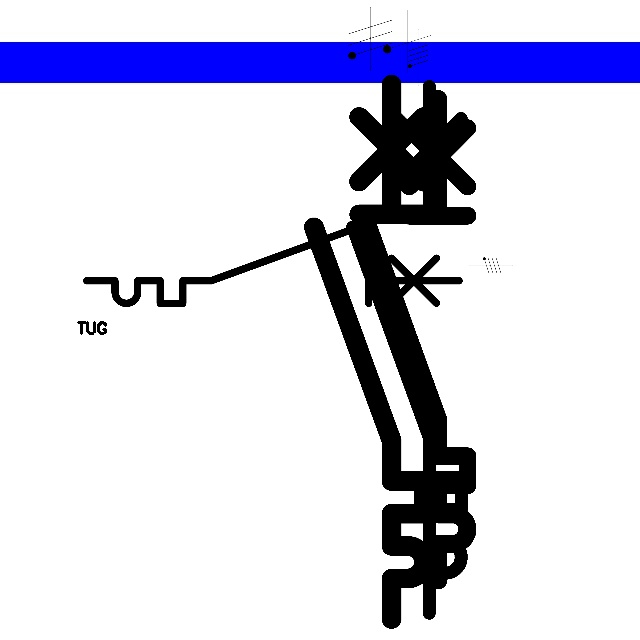interruptor_termomagnetico: (300, 70, 438, 633), (339, 72, 475, 626), (356, 86, 480, 592), (77, 217, 469, 313)
